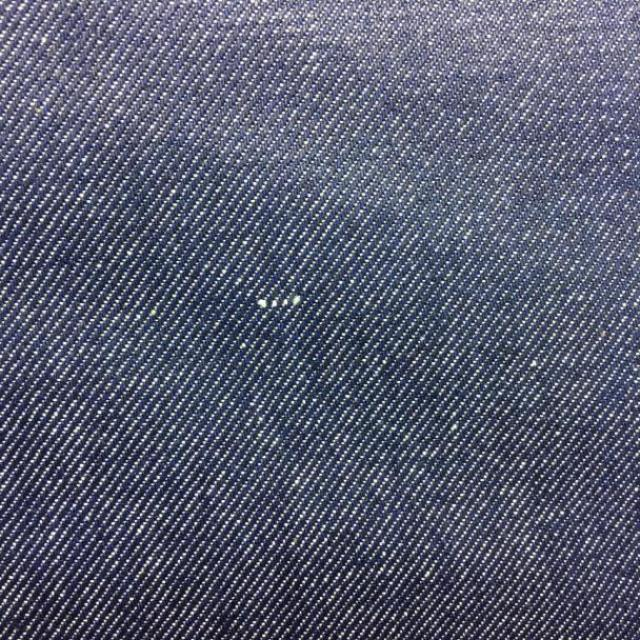Knot: (257, 294, 302, 309)
